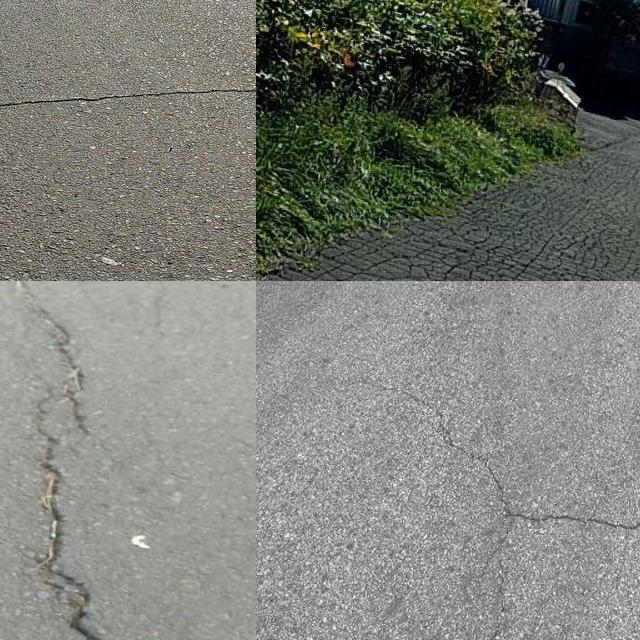Melintang: (381, 371, 640, 546), (0, 71, 256, 124)
Memanjang: (0, 281, 126, 640)
Retak Buaya: (256, 144, 640, 281)
